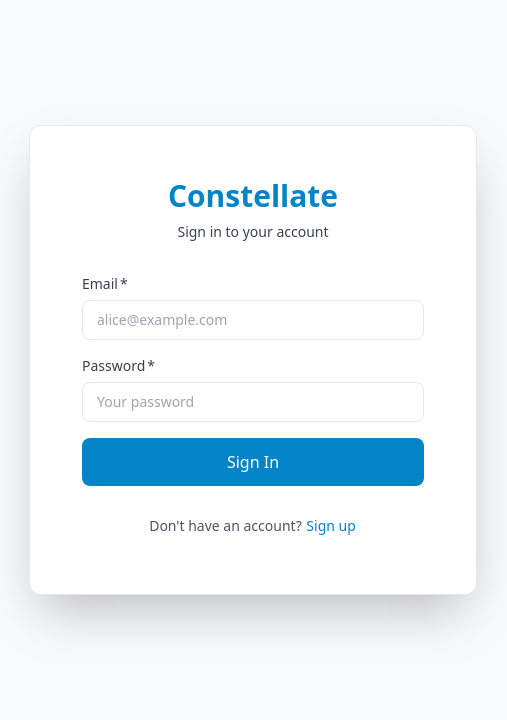
Test case: LoginPage › toggles to signup form
The width and height of the screenshot is (507, 720).
Click the button "Sign up": {"x": 331, "y": 526} [305, 510, 357, 542]
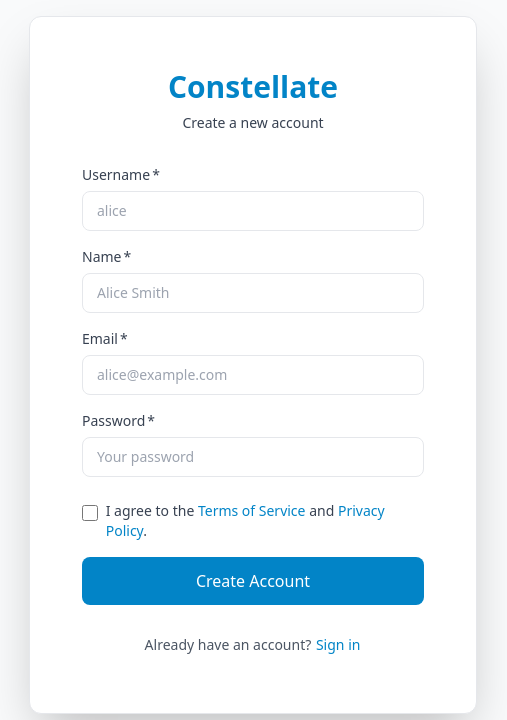
expect the text "Create a new account" is shown: met, box [182, 113, 324, 132]
expect the field labelled "Username" is shown: met, box [82, 191, 424, 231]
expect the field labelled "Name" is shown: met, box [82, 273, 424, 313]
